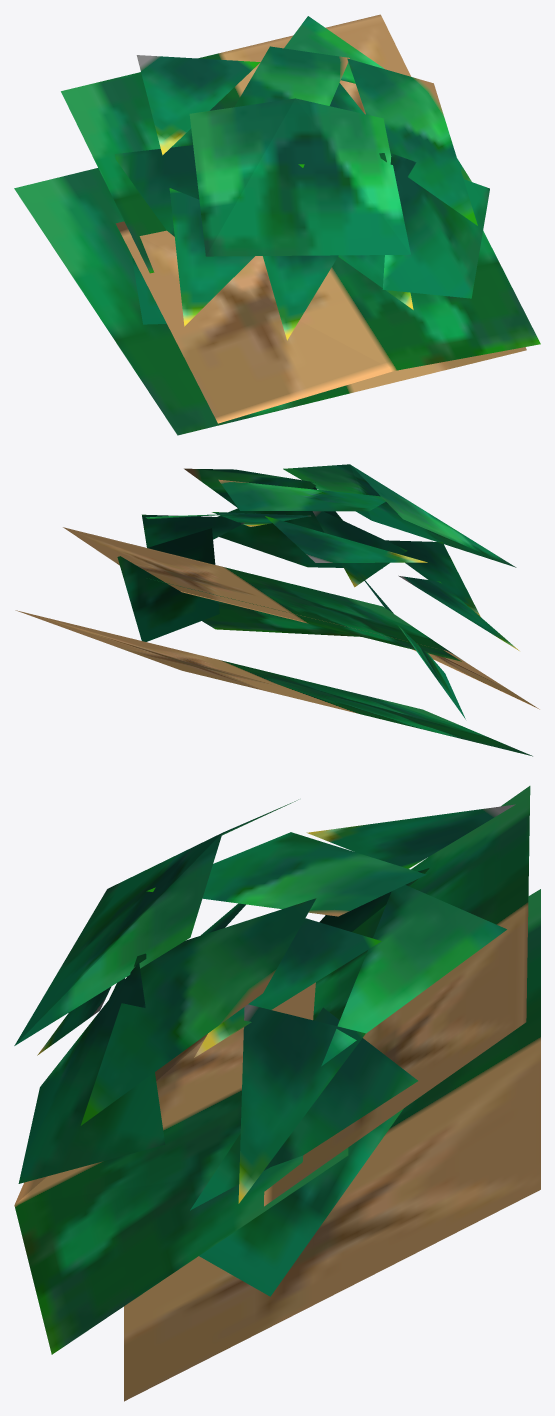
The model's file is fg_bushC_2_bl.dae.
3 renders of one model, top to bottom at view 1: azimuth 30°, elevation 25°; view 2: azimuth 150°, elevation 25°; view 3: azimuth 270°, elevation 25°, orthographic. The views are drawn at different scales.
Parts seen in each view (by area): view 1: fg_bushC_2_bl; view 2: fg_bushC_2_bl; view 3: fg_bushC_2_bl.
Part boxes in pixels (bbox=[...]): fg_bushC_2_bl: bbox=[14, 14, 540, 435]; fg_bushC_2_bl: bbox=[15, 464, 539, 756]; fg_bushC_2_bl: bbox=[14, 786, 540, 1401].
Bounding box in the file's own units: 47.83 × 31.21 × 35.4.
Materials: 1 (1 with a texture image).
